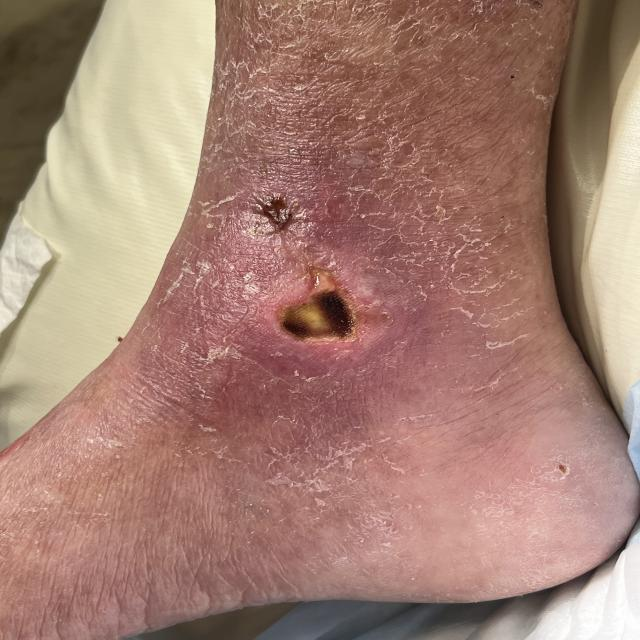Unstageable: (282, 291, 355, 339)
